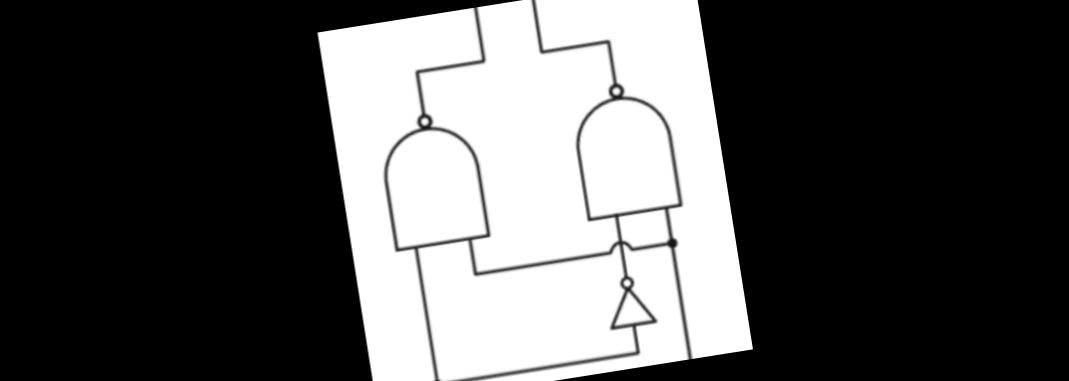nand: (556, 66, 692, 230), (364, 97, 498, 261)
not: (595, 264, 664, 338)
